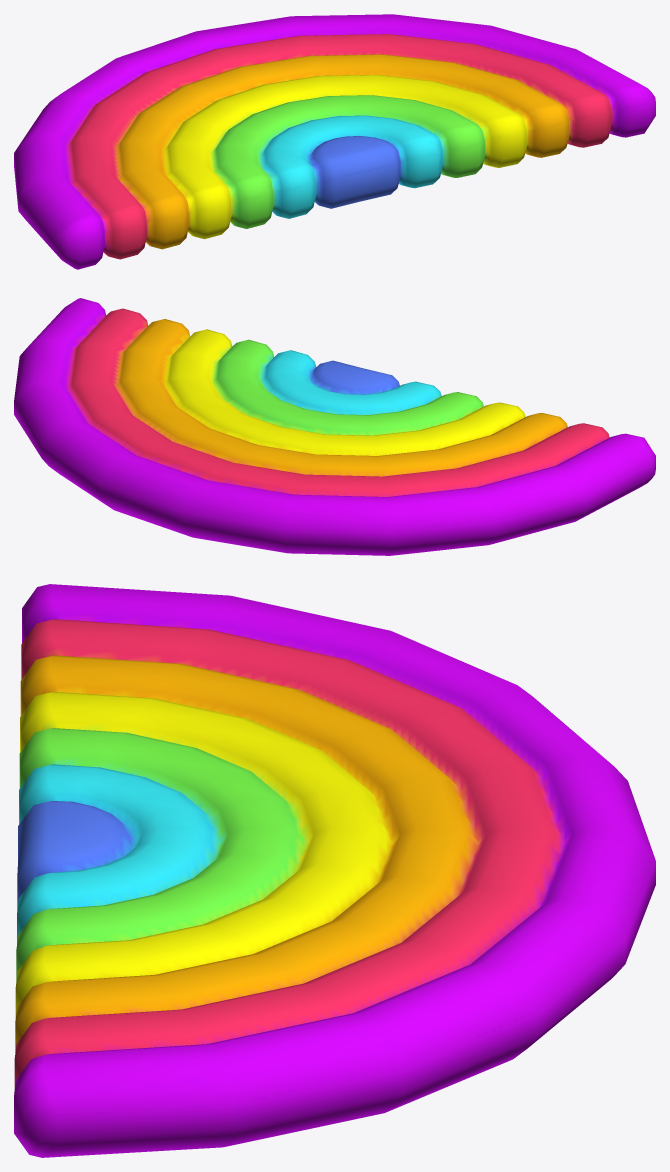
Rendered from Phao9.fbx.
The picture shows the model from 3 angles, top to bottom: view 1: azimuth 30°, elevation 25°; view 2: azimuth 150°, elevation 25°; view 3: azimuth 270°, elevation 25°; orthographic projection. The views are drawn at different scales.
Parts seen in each view (by area): view 1: Floatie_Rainbow_1_M_FloatiesPack03_B_0.001; view 2: Floatie_Rainbow_1_M_FloatiesPack03_B_0.001; view 3: Floatie_Rainbow_1_M_FloatiesPack03_B_0.001.
Part boxes in pixels (x1,y1,x2,y2): Floatie_Rainbow_1_M_FloatiesPack03_B_0.001: (14, 14, 655, 269); Floatie_Rainbow_1_M_FloatiesPack03_B_0.001: (14, 298, 655, 555); Floatie_Rainbow_1_M_FloatiesPack03_B_0.001: (14, 584, 655, 1157).
Size of the model in its own units: 1.86 by 0.1479 by 0.9818.
